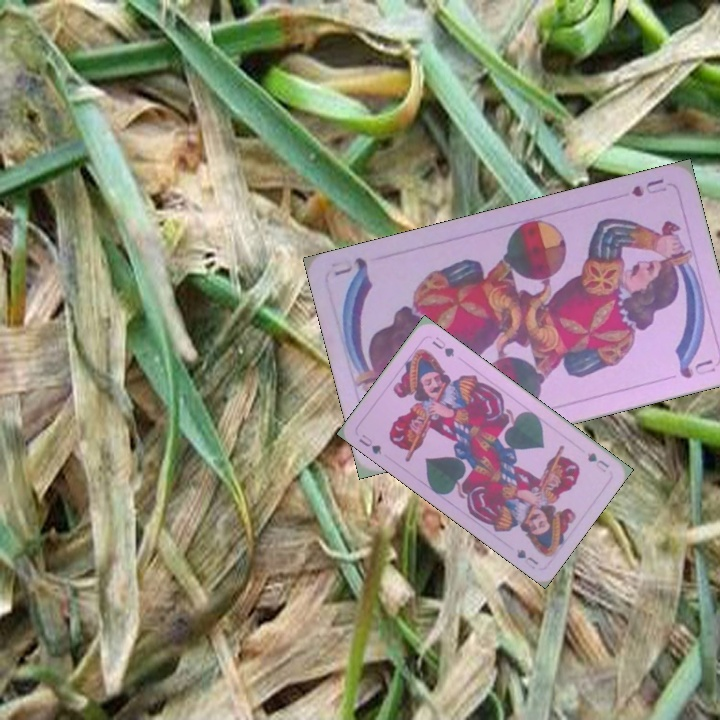GU: (354, 430, 384, 457), (583, 448, 611, 475)
SU: (627, 174, 669, 200)
